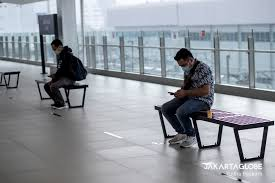Good: (42, 38, 215, 151)
